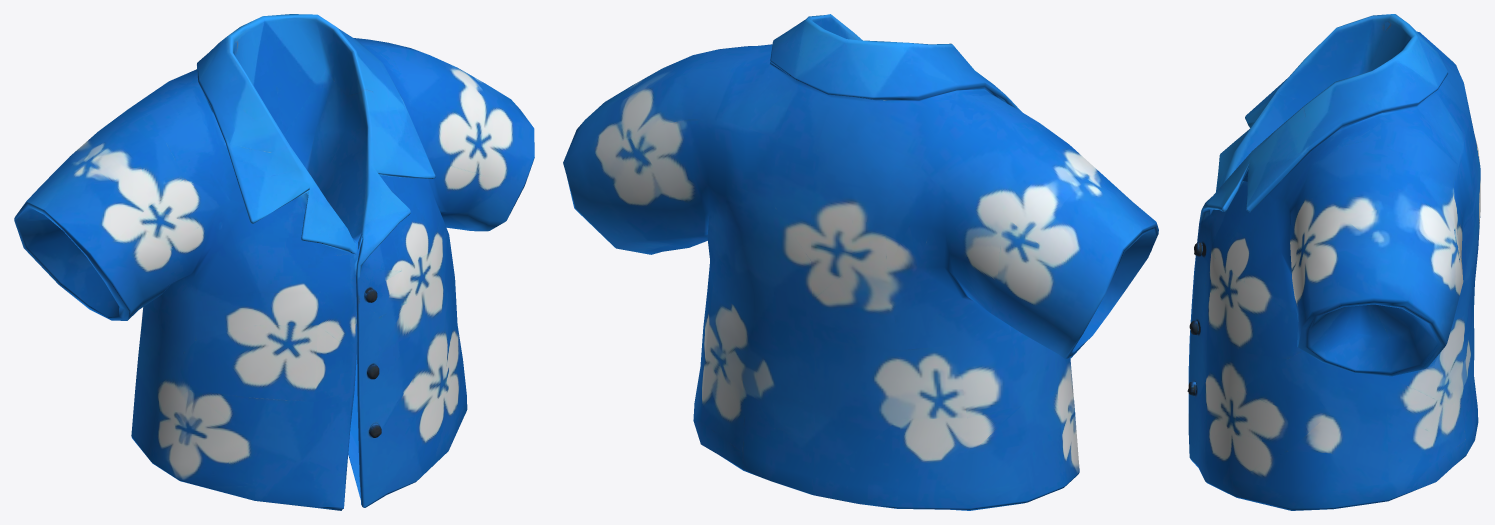
Rendered from alohashirt.glb.
3 views of the same model, side by side, from view 1: azimuth 30°, elevation 25°; view 2: azimuth 150°, elevation 25°; view 3: azimuth 270°, elevation 25° (orthographic). The views are drawn at different scales.
Parts seen in each view (by area): view 1: Mesh_0; view 2: Mesh_0; view 3: Mesh_0.
Boxes of the visible parts, x1,y1,x2,y2 form: Mesh_0: (14,14,534,510); Mesh_0: (563,14,1158,510); Mesh_0: (1187,14,1480,510).
Size of the model in its own units: 1 by 0.8281 by 0.5137.
Materials: 1 (1 with a texture image).
